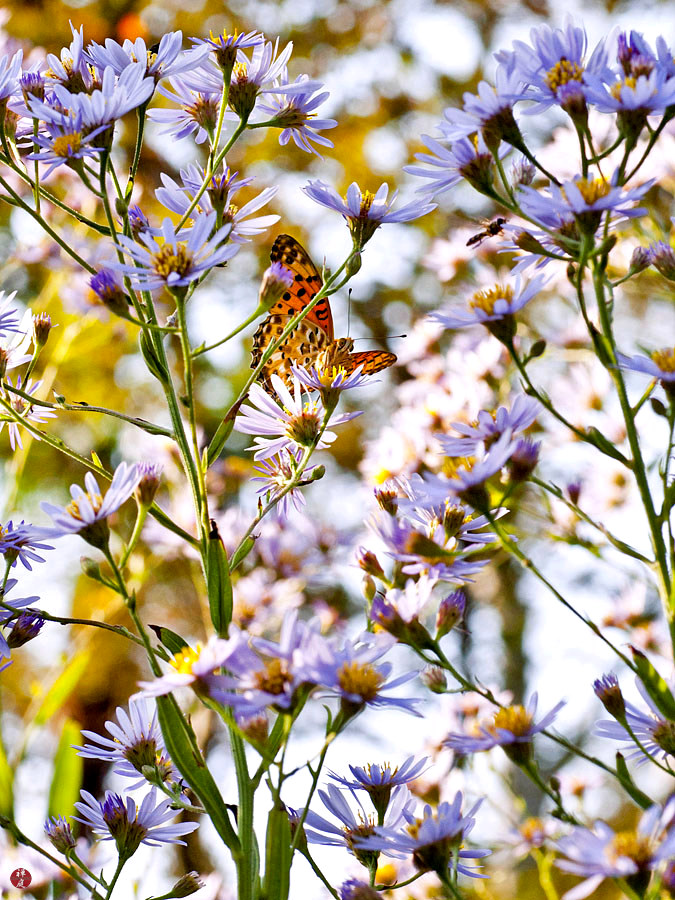Argyreus hyperbius: (247, 233, 406, 410)
butterfly: (249, 235, 408, 412)
